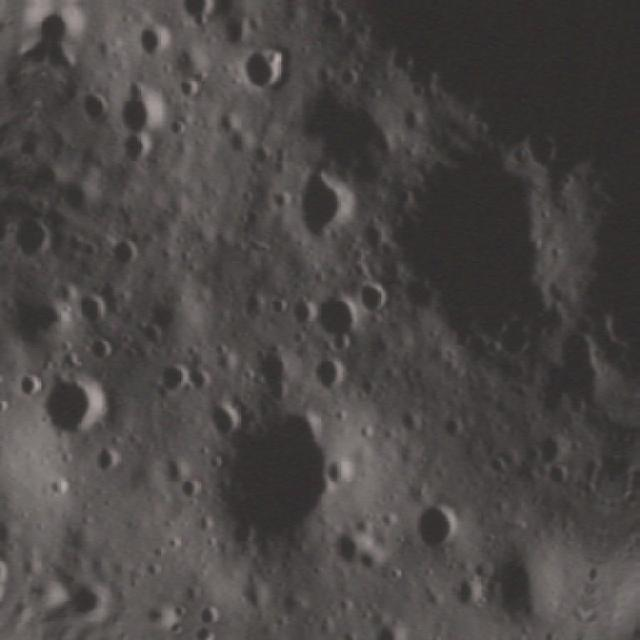crater: (370, 120, 585, 360), (194, 387, 366, 570), (538, 312, 620, 423), (284, 157, 373, 252), (478, 541, 559, 628), (32, 362, 118, 440), (404, 488, 468, 558), (303, 282, 369, 349), (244, 337, 302, 408), (234, 34, 295, 98), (9, 200, 68, 266), (322, 515, 376, 574), (61, 278, 121, 328), (47, 564, 119, 604), (53, 166, 105, 219), (147, 352, 199, 402), (200, 386, 249, 439), (2, 360, 55, 409), (444, 566, 494, 617), (349, 270, 397, 321), (132, 16, 178, 67), (118, 89, 167, 136), (72, 80, 120, 126), (532, 458, 585, 499), (89, 436, 133, 484), (105, 224, 149, 270), (307, 350, 355, 392), (218, 7, 260, 55), (530, 427, 576, 470), (175, 0, 232, 34), (81, 323, 122, 366), (186, 589, 231, 628), (116, 128, 156, 170), (234, 280, 272, 323), (394, 401, 431, 444), (436, 408, 476, 446), (130, 311, 167, 351), (172, 66, 212, 102), (368, 611, 412, 640), (171, 468, 206, 504), (0, 529, 23, 583), (264, 284, 294, 324)
